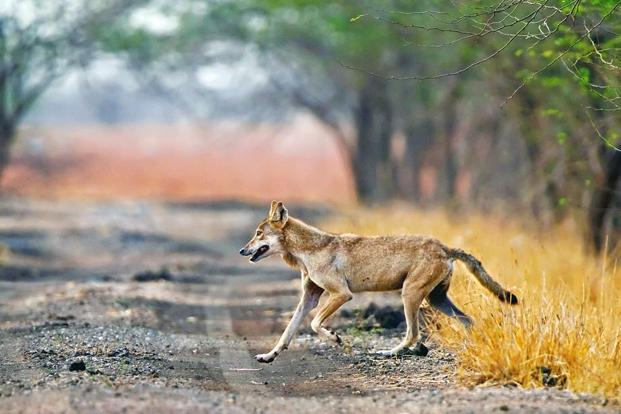wolf: (240, 198, 525, 358)
